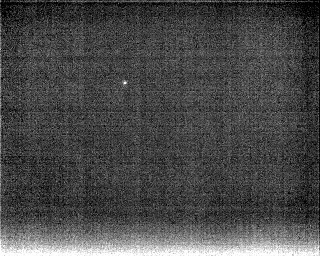BIRD: (121, 78, 129, 87)
